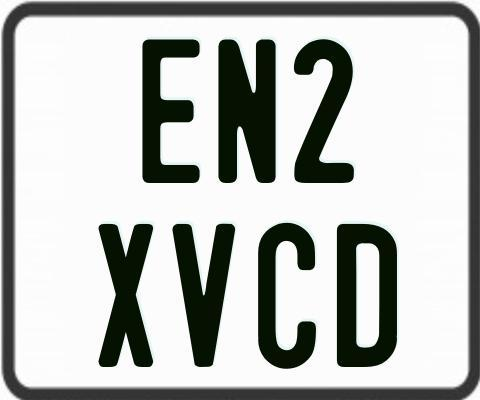2: (294, 36, 354, 181)
C: (258, 221, 317, 371)
D: (336, 223, 400, 366)
E: (142, 36, 206, 184)
N: (218, 37, 277, 187)
V: (170, 223, 236, 370)
X: (99, 221, 158, 368)
